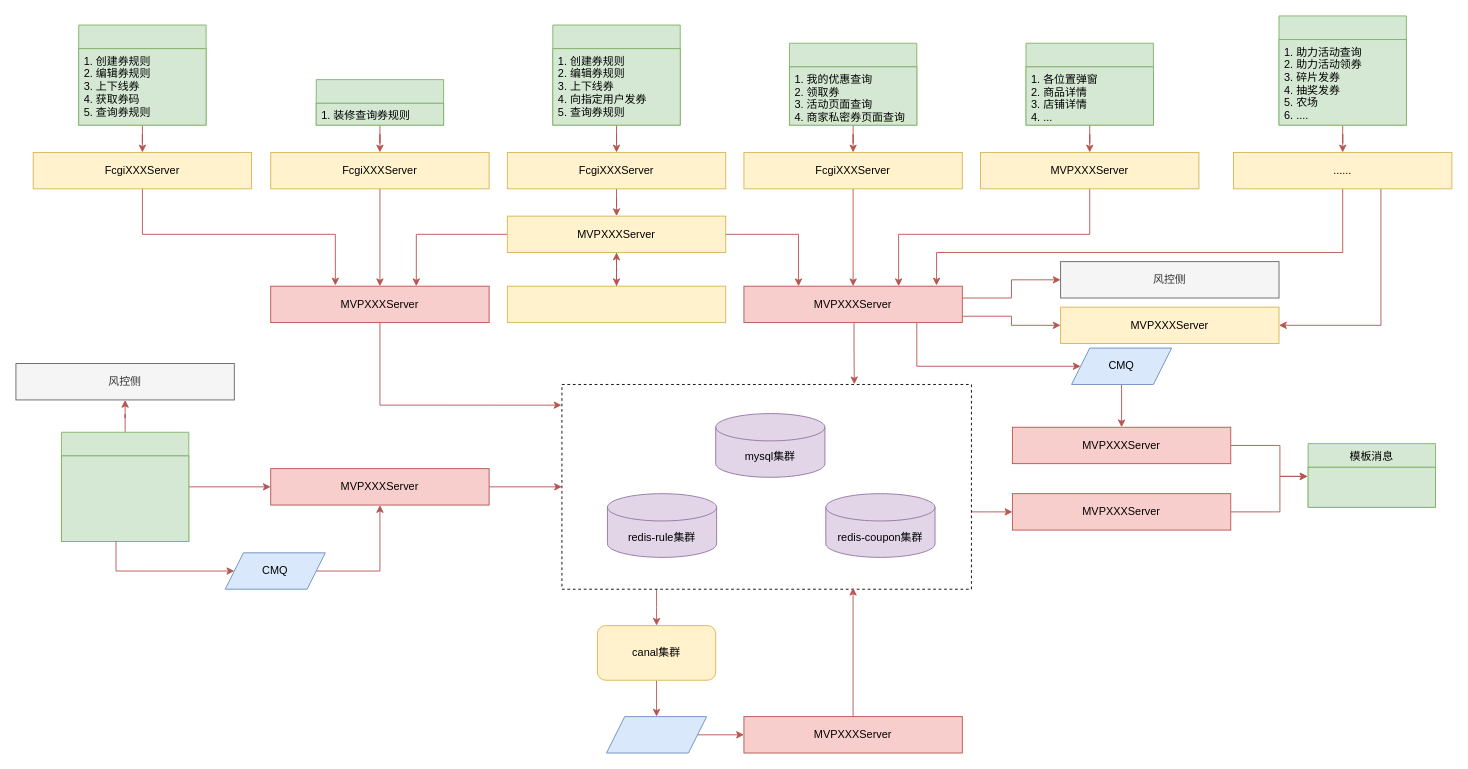
The diagram is 1468 pixels wide and 769 high, and some of its shapes have lost their labels. Here are the shapes that lost their labels. From the top down, the box of each, then its label:
(78, 24, 206, 125): 商家运营
(552, 24, 680, 125): 平台运营
(789, 42, 917, 125): C端页面
(1025, 42, 1153, 125): 资源位
(1278, 15, 1406, 125): UG业务
(315, 79, 444, 125): ARES战神
(506, 285, 726, 323): MVPTimerXXXServer
(61, 431, 189, 541): 交易系统
(61, 455, 189, 541): 1. 批价查询券 2. 下单核销券 3. 订单确认核销券 4. 订单失败回滚券 5. 订单取消回滚券 6. 退款回滚券
(1307, 466, 1436, 507): 1. 用户领券通知 2. 用户券到期提醒
(606, 716, 707, 753): kafka集群
